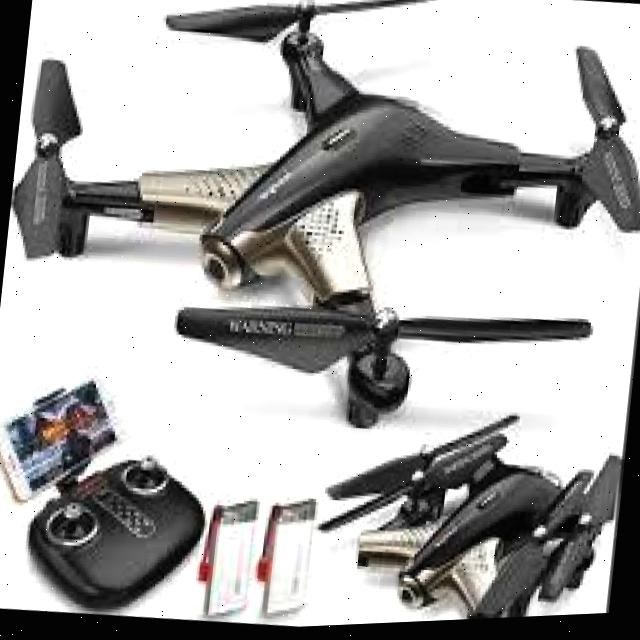drone: (0, 0, 640, 474)
